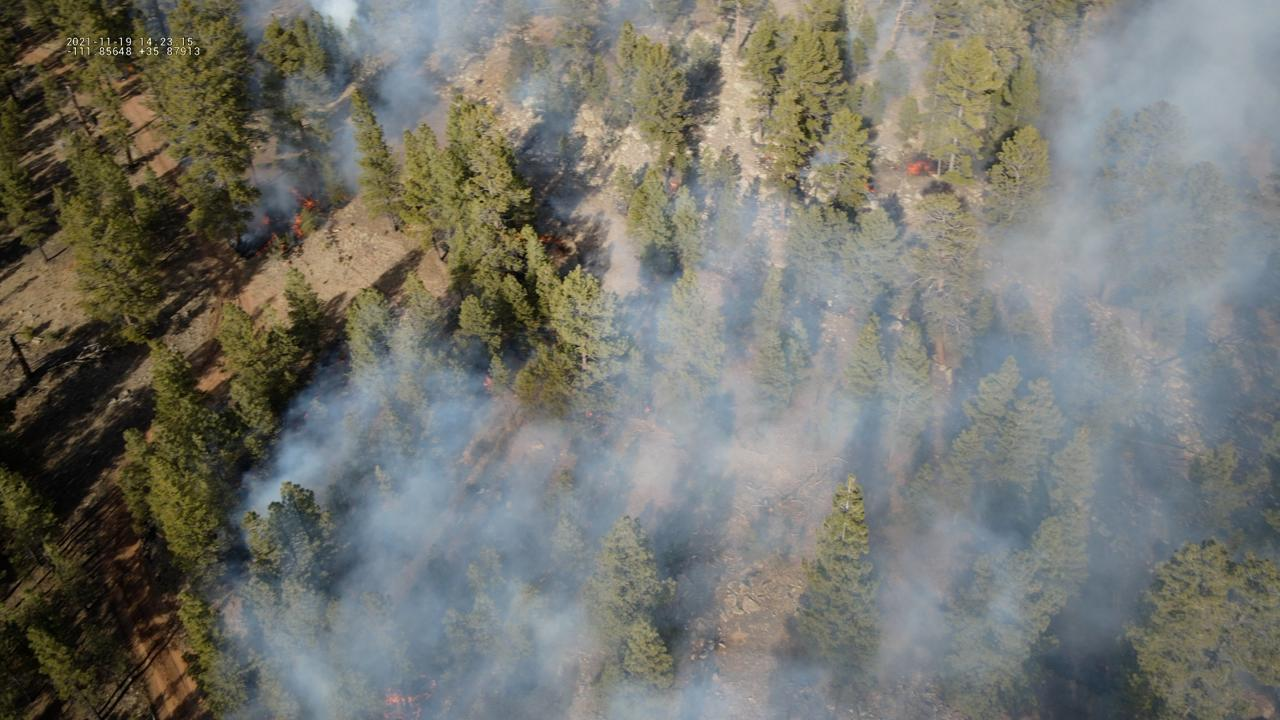fire: (382, 671, 437, 707), (287, 186, 318, 210), (253, 232, 276, 256), (903, 157, 932, 175), (291, 212, 304, 242), (480, 374, 495, 391), (537, 233, 554, 244), (862, 183, 877, 195), (257, 215, 270, 225), (642, 405, 653, 413), (670, 180, 678, 190), (585, 411, 594, 418)
smoke: (127, 0, 1280, 720)
